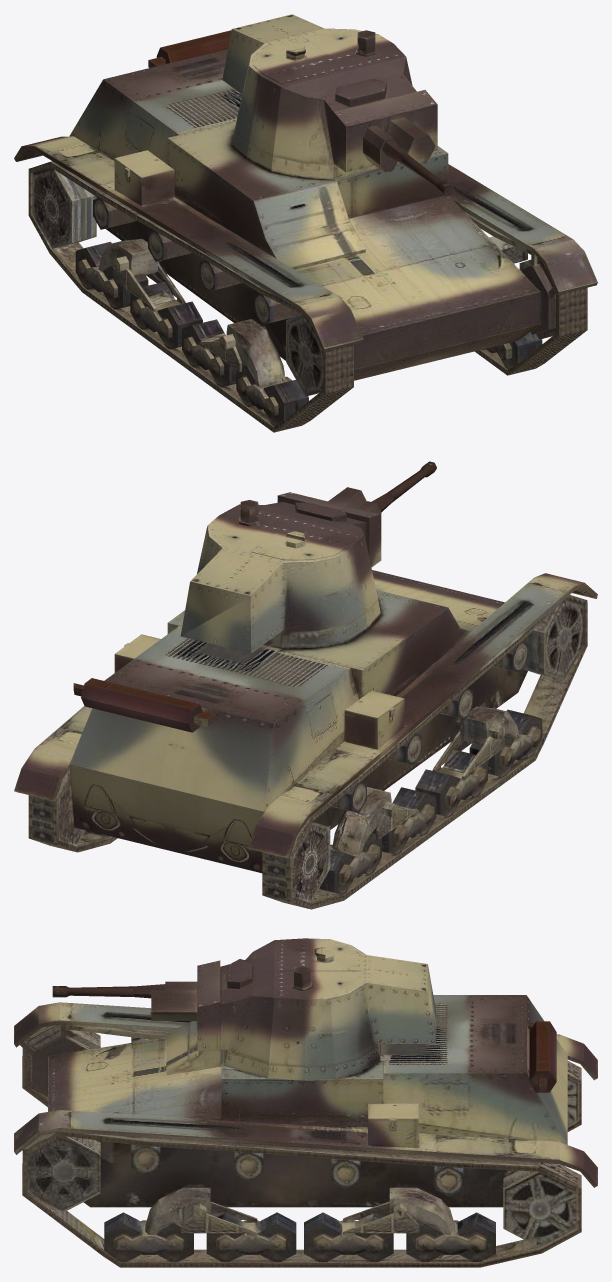
The model's file is polish_7tp.glb.
The picture shows the model from 3 angles, top to bottom: view 1: azimuth 30°, elevation 25°; view 2: azimuth 150°, elevation 25°; view 3: azimuth 270°, elevation 25°; orthographic projection. The views are drawn at different scales.
Parts seen in each view (by area): view 1: hull, turret, gun; view 2: hull, turret, gun; view 3: hull, turret, gun.
Part boxes in pixels (x1,y1,x2,y2): hull: (14,30,597,432); turret: (222,14,445,179); gun: (363,117,453,196); hull: (14,570,597,909); turret: (168,492,381,653); gun: (328,461,436,514); hull: (14,995,597,1267); turret: (197,938,436,1080); gun: (52,981,197,1020).
Size of the model in its own units: 1.04 by 0.999 by 2.
Materials: 1 (1 with a texture image).
